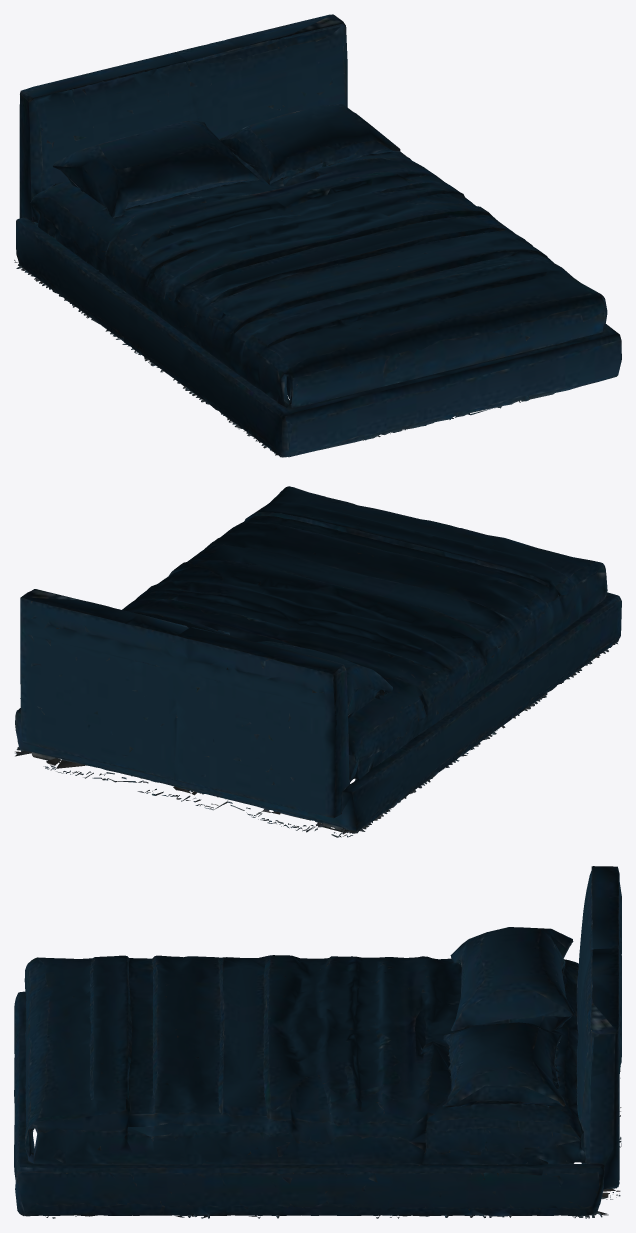
Rendered from bed.glb.
3 renders of one model, top to bottom at view 1: azimuth 30°, elevation 25°; view 2: azimuth 150°, elevation 25°; view 3: azimuth 270°, elevation 25°, orthographic. The views are drawn at different scales.
Parts seen in each view (by area): view 1: geometry_0; view 2: geometry_0; view 3: geometry_0.
Boxes of the visible parts, x1,y1,x2,y2 form: geometry_0: [14, 14, 621, 457]; geometry_0: [15, 486, 621, 837]; geometry_0: [14, 866, 621, 1218].
Bounding box in the file's own units: 0.7198 × 0.3354 × 1.
1 material, 1 textured.
